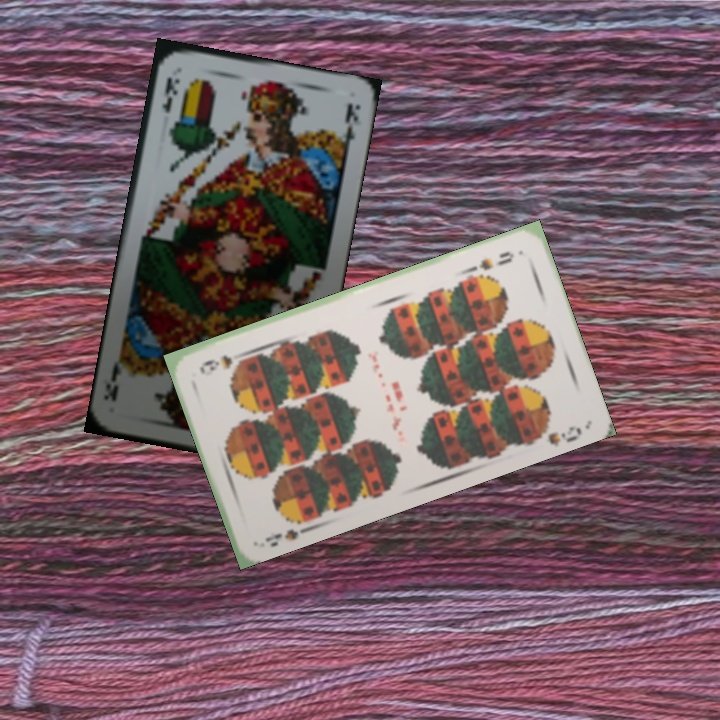EK: (158, 73, 183, 116)
S9: (261, 510, 315, 550), (466, 247, 517, 279)
